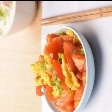fanqiechaojidan: (30, 25, 89, 112)
